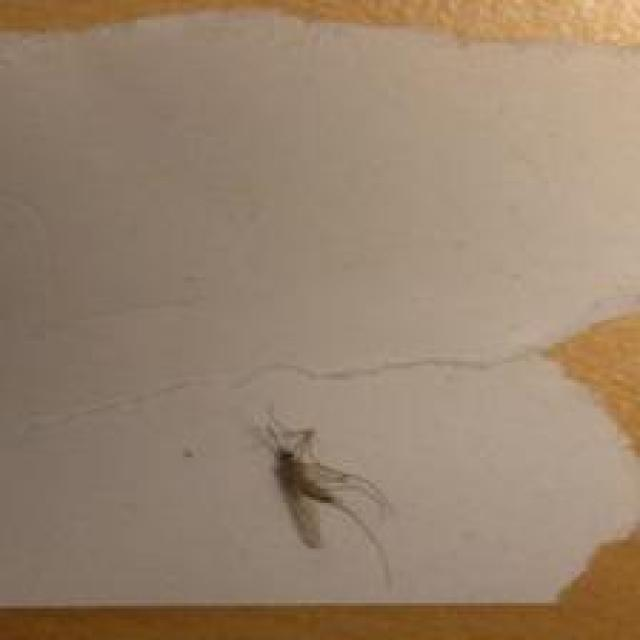Culex: (250, 406, 396, 588)
